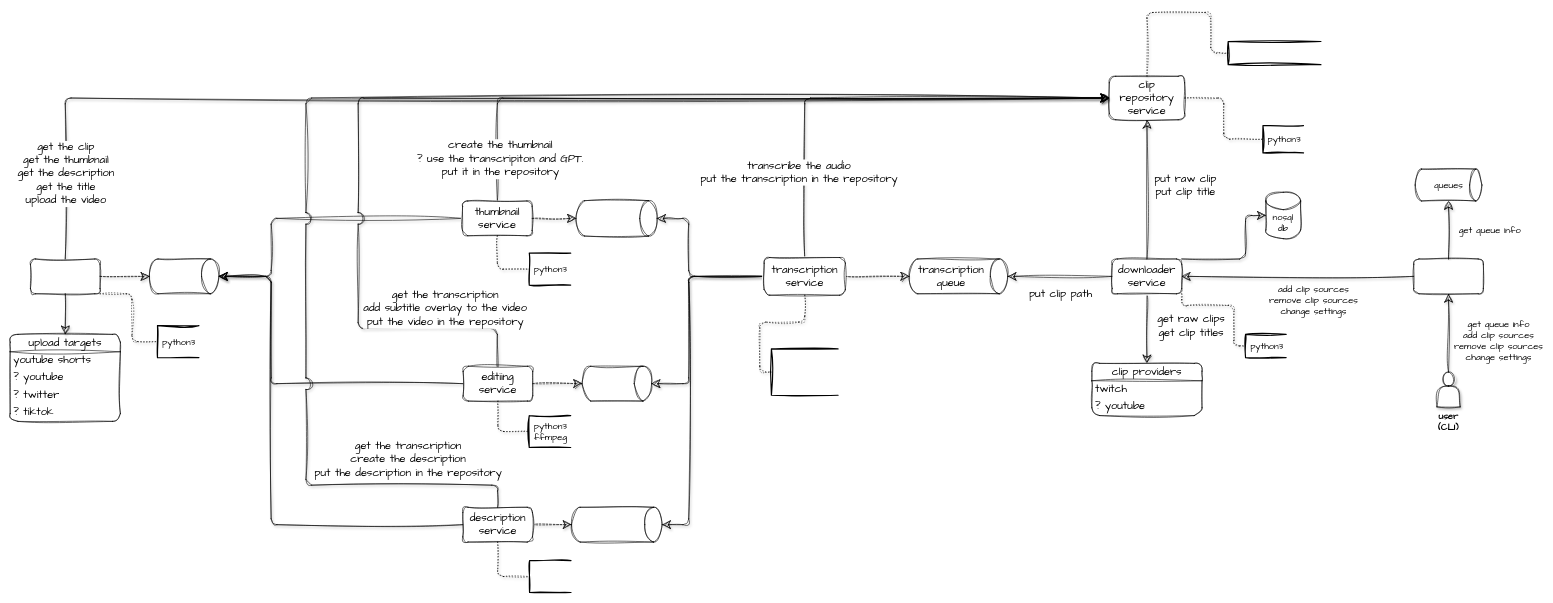
Some shapes in this 1553 by 603 pixel diagram are drawn without their labels. The shapes that lost their labels are listed below. From the top down, each one's centre as x and y in pixels, then its label:
At point 1274,53: "python3 common lib".
At point 616,218: "thumbnail queue".
At point 65,276: "upload service".
At point 184,276: "upload queue".
At point 1448,276: "backend".
At point 616,383: "editing queue".
At point 804,372: "python3 openai whisper ffmpeg".
At point 616,524: "description queue".
At point 550,576: "python3 llama".
